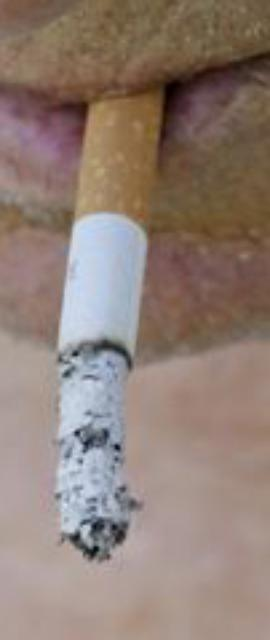Cigarette: (56, 38, 176, 566)
